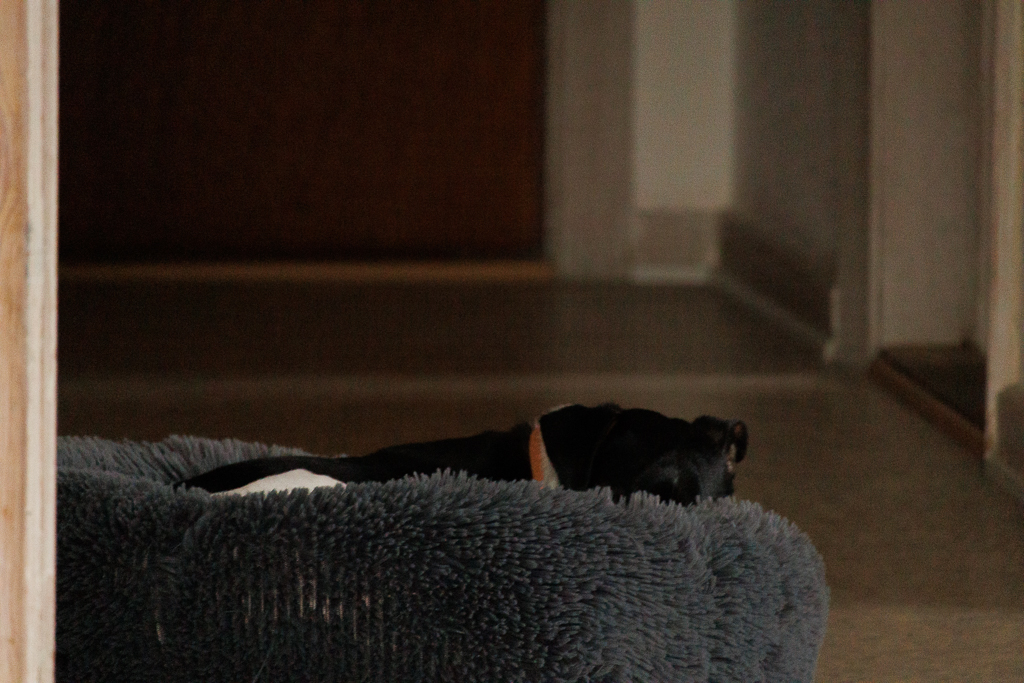Dog: (144, 390, 758, 528)
